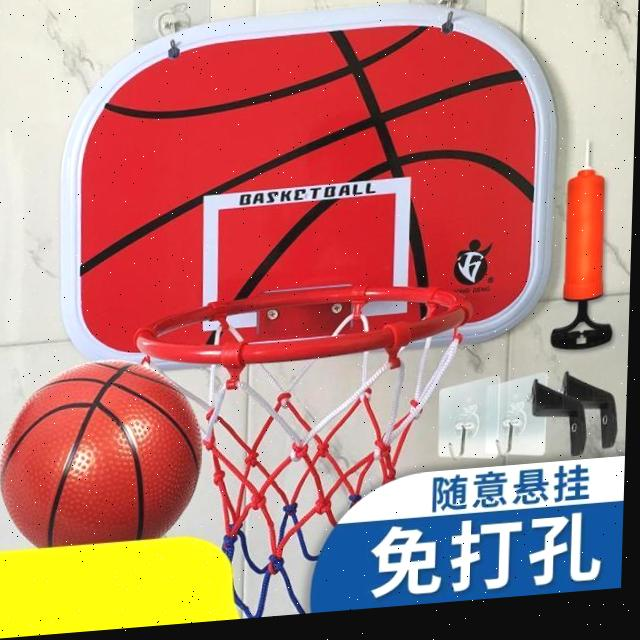Basketball: (0, 353, 207, 554)
